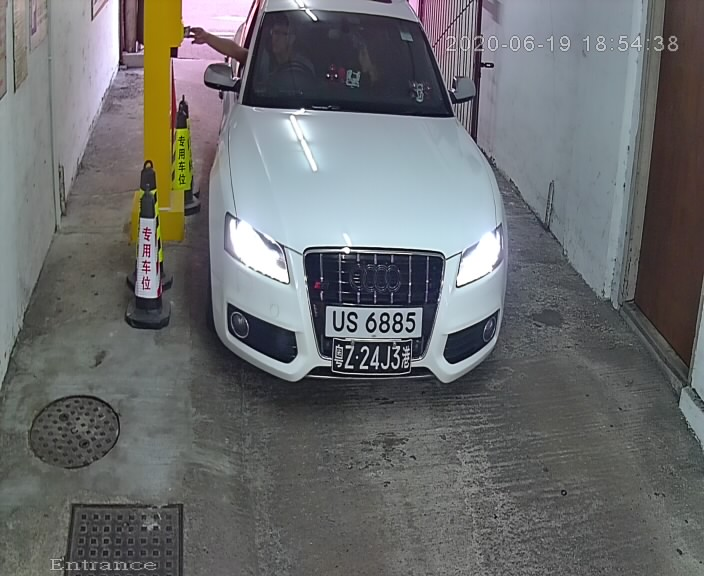privatecar: (198, 3, 509, 395)
